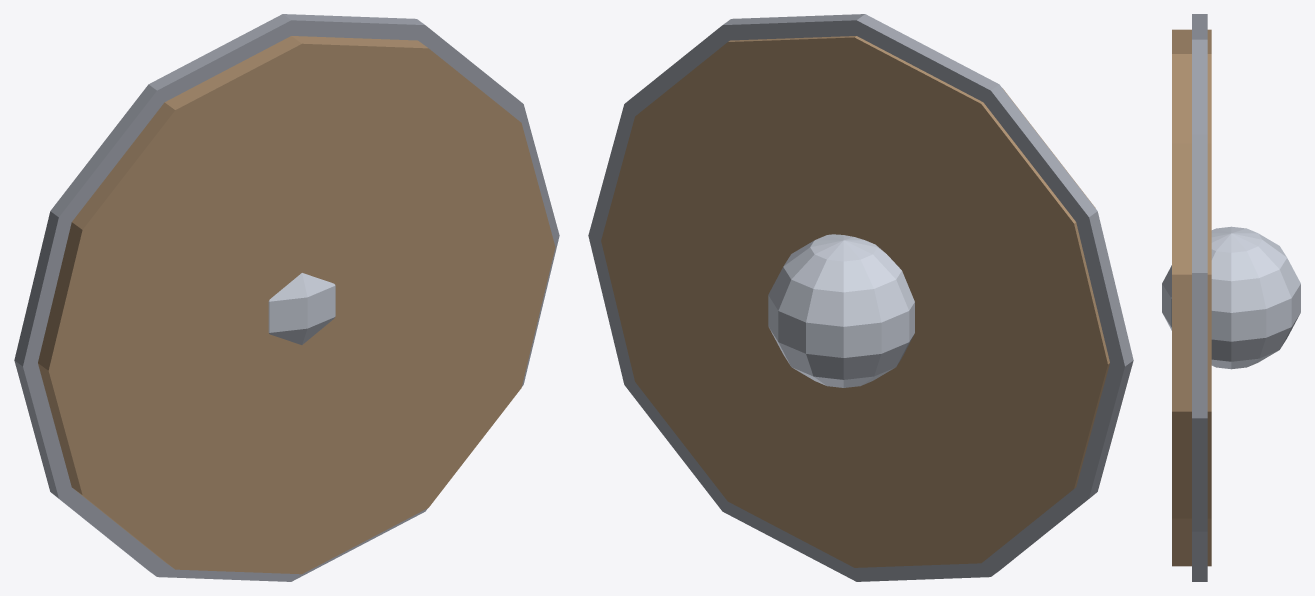
Rendered from shield_round.glb.
The picture shows the model from 3 angles, left to right: view 1: azimuth 30°, elevation 25°; view 2: azimuth 150°, elevation 25°; view 3: azimuth 270°, elevation 25°; orthographic projection. The views are drawn at different scales.
Visible parts, largest first — view 1: shield_round_00, shield_round_01, shield_round_02; view 2: shield_round_00, shield_round_01, shield_round_02; view 3: shield_round_00, shield_round_02, shield_round_01.
Boxes of the visible parts, x1,y1,x2,y2 form: shield_round_00: (38,36,555,574); shield_round_01: (14,14,559,581); shield_round_02: (268,273,335,344); shield_round_00: (601,36,1109,567); shield_round_01: (588,14,1133,581); shield_round_02: (768,234,914,387); shield_round_00: (1172,29,1211,566); shield_round_02: (1162,226,1300,369); shield_round_01: (1192,14,1207,581).
Size of the model in its own units: 0.72 by 0.72 by 0.1755.
